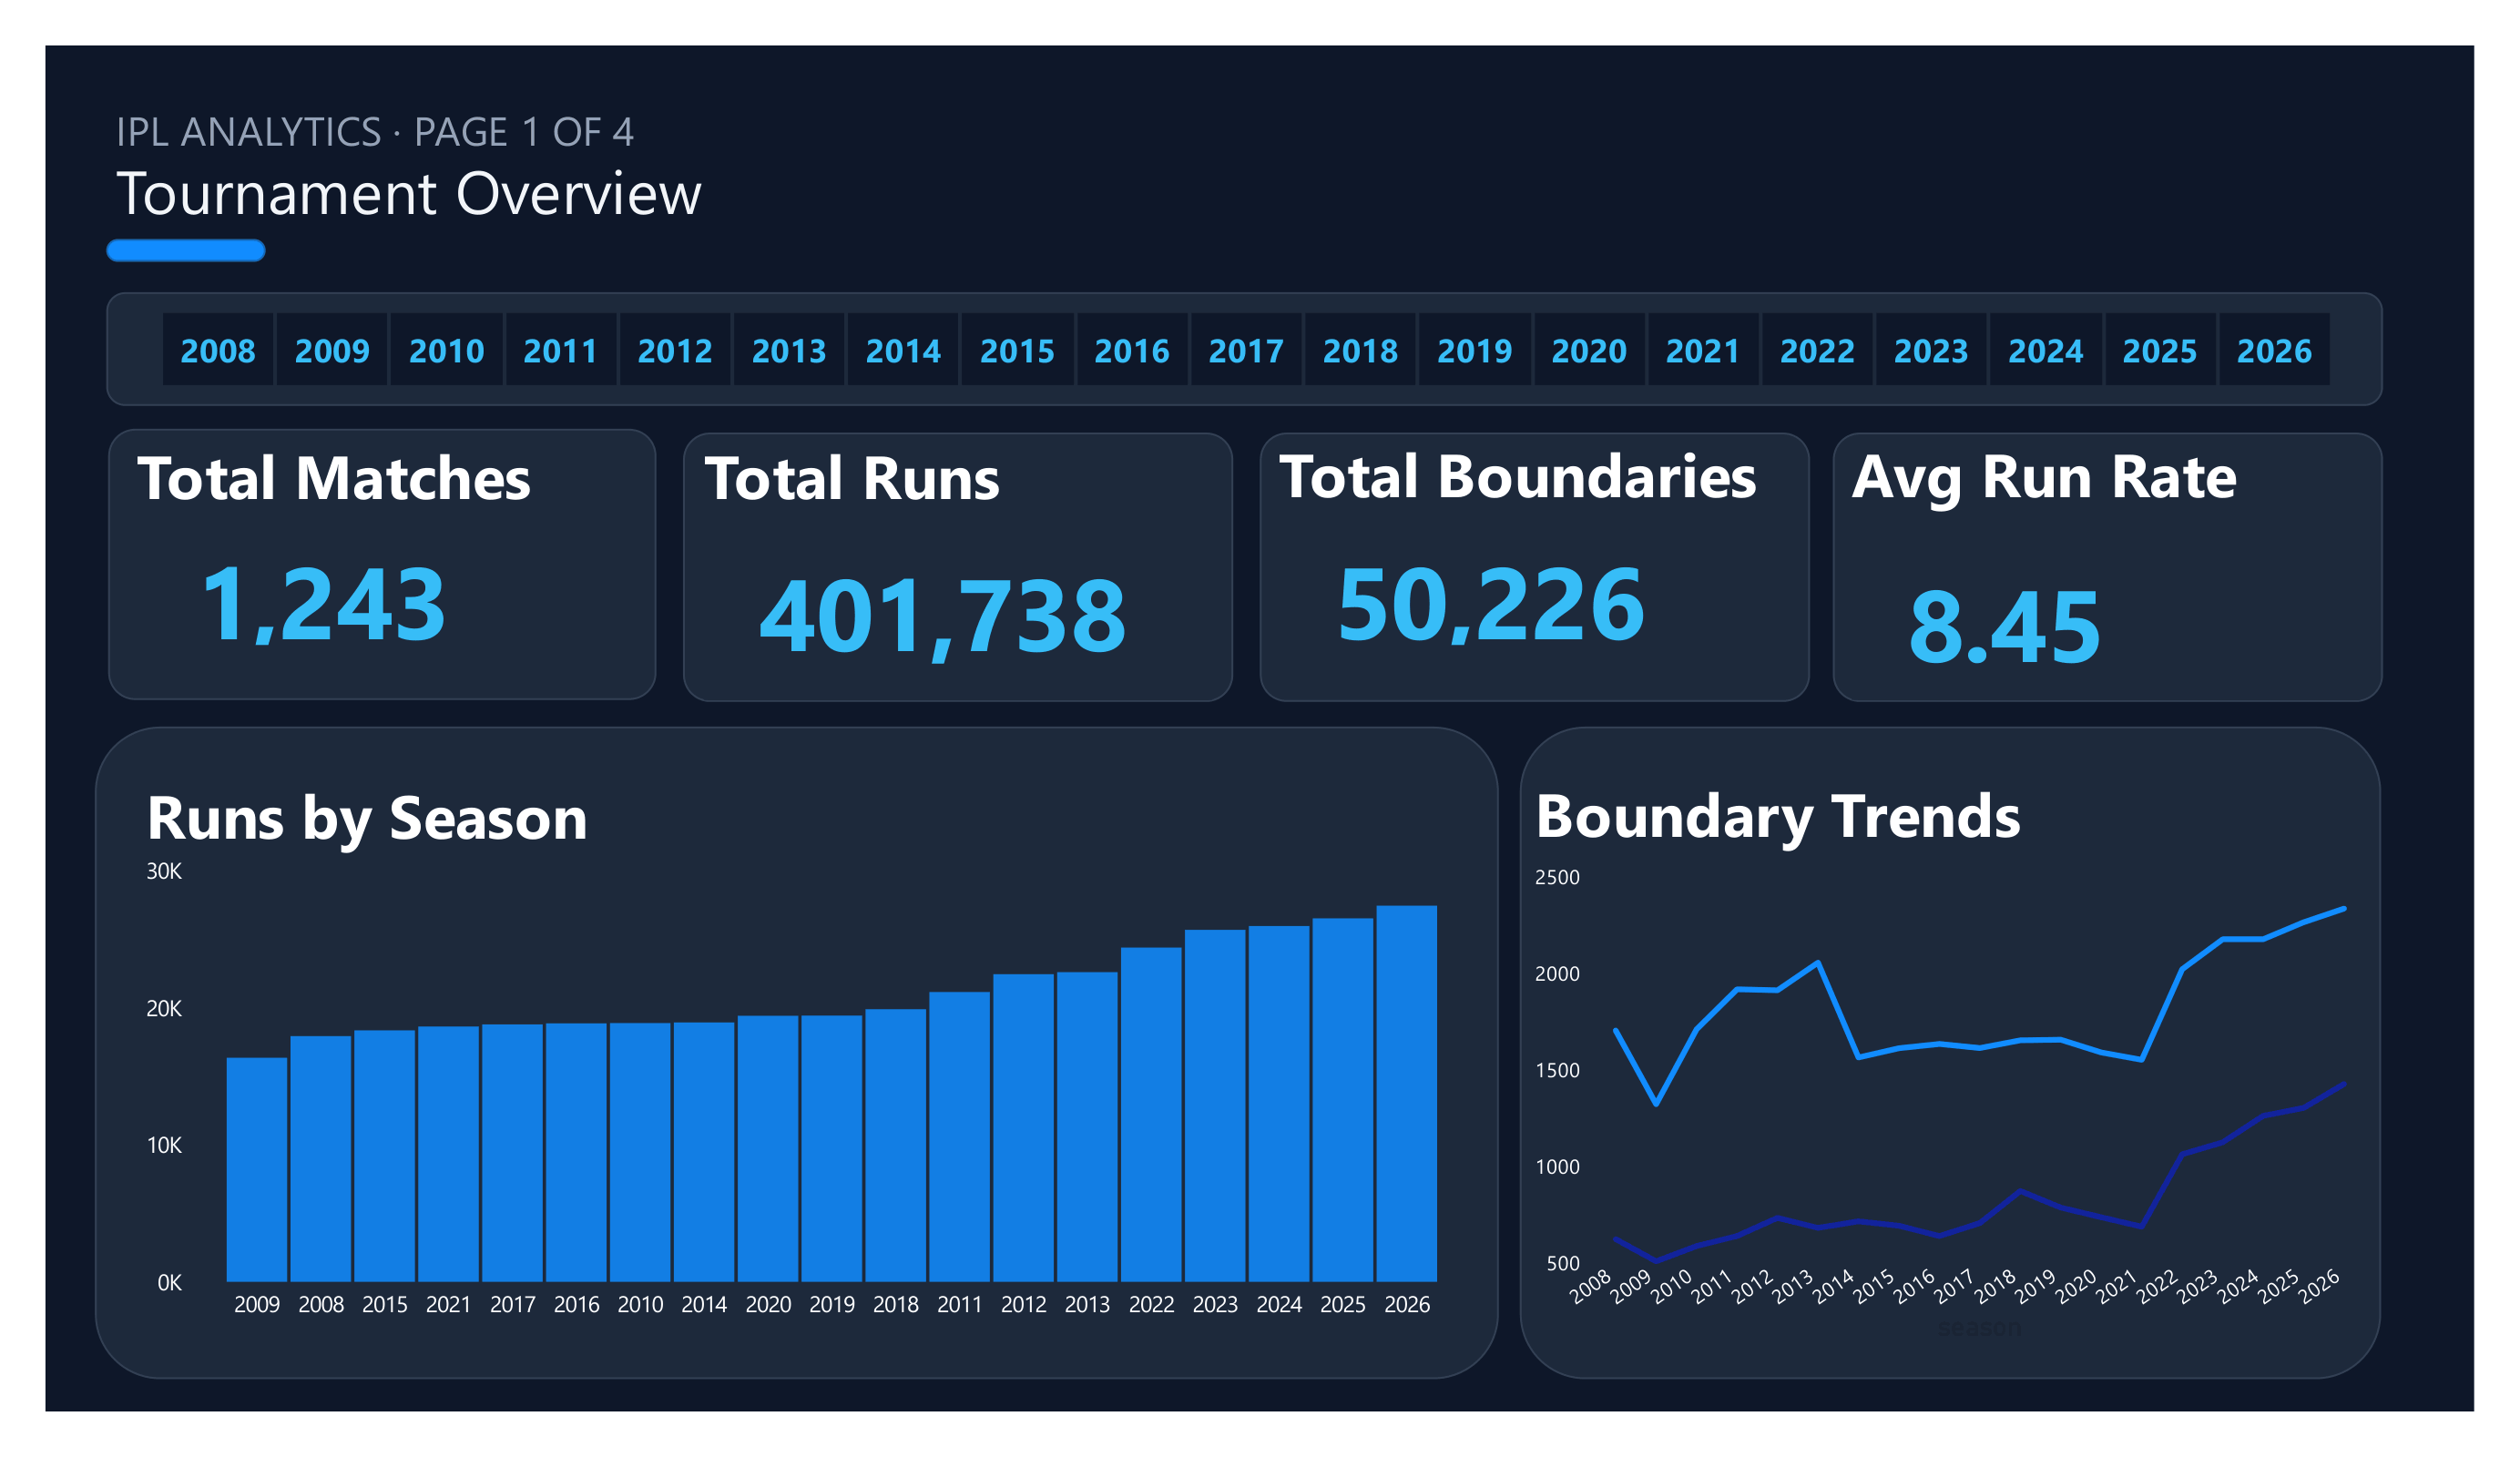

Layout of this report page (visuals, bound fields, positions):
{"tool":"powerbi","page":{"name":"Tournament Overview","canvas":[1280,720],"ordinal":0},"visuals":[{"type":"textbox","box":[32,24,304,46],"z":0},{"type":"textbox","box":[32,48,450,60],"z":1000},{"type":"shape","box":[32,102,84,12],"z":2000},{"type":"slicer","fields":{"Values":["vw_season_trends.season"]},"box":[32,130,1200,60],"z":3000},{"type":"shape","box":[32.5,201.7,289.5,143.1],"z":4000},{"type":"shape","box":[26,359.5,740.1,343.2],"z":5000},{"type":"shape","box":[777.5,359.5,453.8,343.2],"z":6000},{"type":"shape","box":[336,204,290,142],"z":7000},{"type":"shape","box":[640,204,290,142],"z":8000},{"type":"shape","box":[942,204,290,142],"z":9000},{"type":"cardVisual","title":"Total Matches","fields":{"Data":["vw_season_trends.Total Matches Card"]},"box":[50,248.3,268.3,85],"z":10000},{"type":"clusteredColumnChart","title":"Runs by Season","fields":{"Category":["vw_season_trends.season"],"Y":["Sum(vw_season_trends.total_runs)"]},"box":[48.3,381.7,703.3,301.7],"z":11000},{"type":"lineChart","title":"Boundary Trends ","fields":{"Category":["vw_season_trends.season"],"Y":["Sum(vw_season_trends.total_fours)","Sum(vw_season_trends.total_sixes)"]},"box":[785,381.2,435,301.2],"z":12000},{"type":"textbox","title":"#CBD5E1","box":[346.7,203.3,285,50],"z":13000},{"type":"cardVisual","title":"Total Matches","fields":{"Data":["vw_season_trends.Total Runs Card"]},"box":[346.7,248.3,268.3,96.7],"z":14000},{"type":"cardVisual","title":"Total Matches","fields":{"Data":["vw_season_trends.Total Boundaries Card"]},"box":[650,248.3,268.3,85],"z":15000},{"type":"cardVisual","title":"Total Matches","fields":{"Data":["vw_season_trends.Average Run Rate"]},"box":[951.7,260,268.3,85],"z":16000},{"type":"textbox","title":"#CBD5E1","box":[48.3,203.3,273.3,50],"z":17000},{"type":"textbox","title":"#CBD5E1","box":[650,201.7,280,50],"z":18000},{"type":"textbox","title":"#CBD5E1","box":[951.7,201.7,278.3,50],"z":19000}]}

Visuals, with their boxes on the page's 1280x720 design canvas (x1, y1, x2, y2). These are canvas units, not pixel positions in the 2520x1457 screenshot, which may show the page scaled, cropped or inside an application window:
textbox: [32,24,336,70]
textbox: [32,48,482,108]
shape: [32,102,116,114]
slicer - vw_season_trends.season: [32,130,1232,190]
shape: [32,202,322,345]
shape: [26,360,766,703]
shape: [778,360,1231,703]
shape: [336,204,626,346]
shape: [640,204,930,346]
shape: [942,204,1232,346]
"Total Matches" cardVisual: [50,248,318,333]
"Runs by Season" clusteredColumnChart: [48,382,752,683]
"Boundary Trends " lineChart: [785,381,1220,682]
"#CBD5E1" textbox: [347,203,632,253]
"Total Matches" cardVisual: [347,248,615,345]
"Total Matches" cardVisual: [650,248,918,333]
"Total Matches" cardVisual: [952,260,1220,345]
"#CBD5E1" textbox: [48,203,322,253]
"#CBD5E1" textbox: [650,202,930,252]
"#CBD5E1" textbox: [952,202,1230,252]
